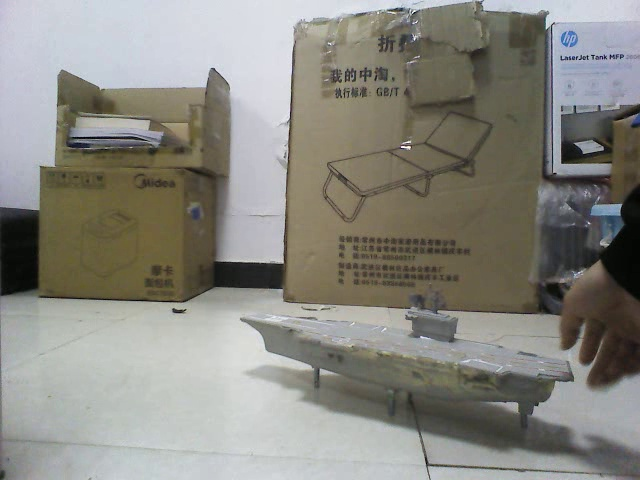aircraft_carrier: (238, 288, 580, 409)
